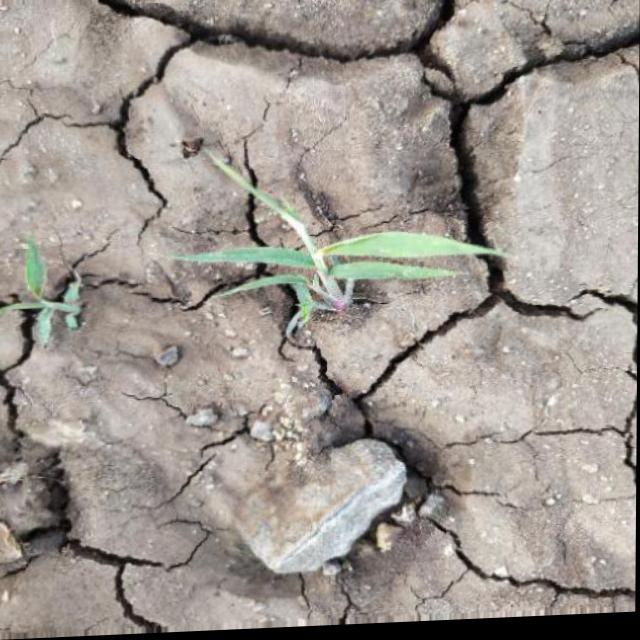weed: (150, 141, 522, 370)
